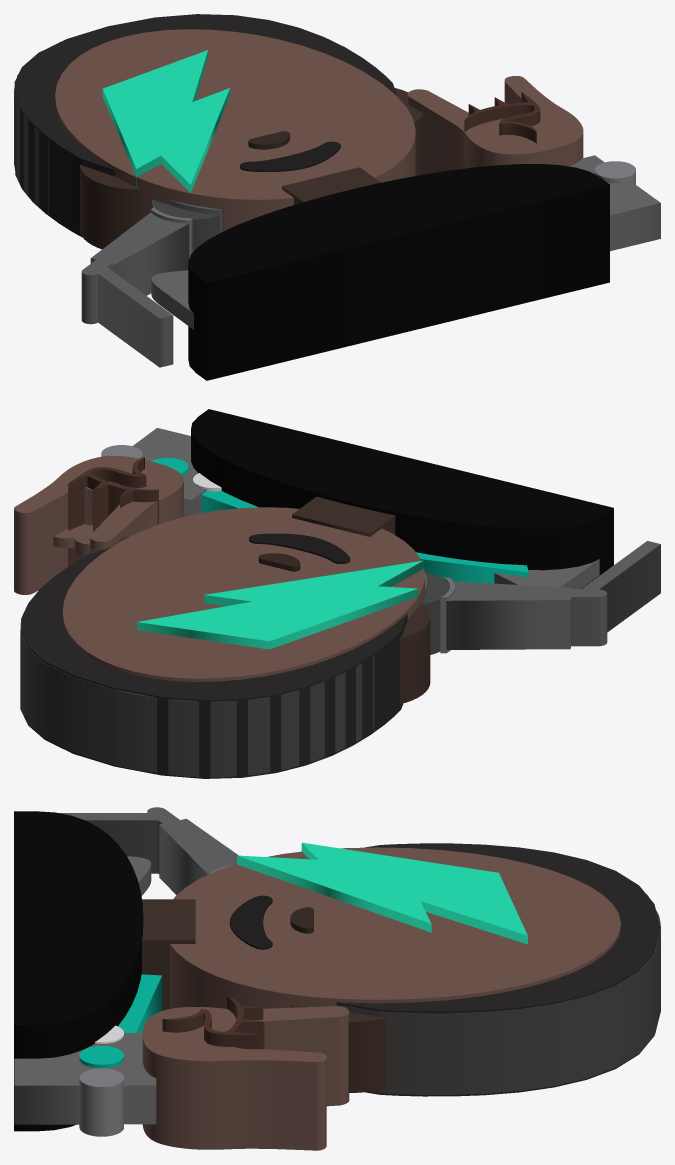
File: emoji_u1f468_1f3ff_200d_1f3a4.glb
The picture shows the model from 3 angles, top to bottom: view 1: azimuth 30°, elevation 25°; view 2: azimuth 150°, elevation 25°; view 3: azimuth 270°, elevation 25°; orthographic projection. The views are drawn at different scales.
Parts seen in each view (by area): view 1: emoji_u1f468_1f3ff_200d_1f3a4; view 2: emoji_u1f468_1f3ff_200d_1f3a4; view 3: emoji_u1f468_1f3ff_200d_1f3a4.
Boxes of the visible parts, bbox=[...] form: emoji_u1f468_1f3ff_200d_1f3a4: bbox=[14, 14, 660, 380]; emoji_u1f468_1f3ff_200d_1f3a4: bbox=[14, 409, 660, 778]; emoji_u1f468_1f3ff_200d_1f3a4: bbox=[14, 807, 660, 1150].
Bounding box in the file's own units: 0.0337 × 0.0064 × 0.0331.
